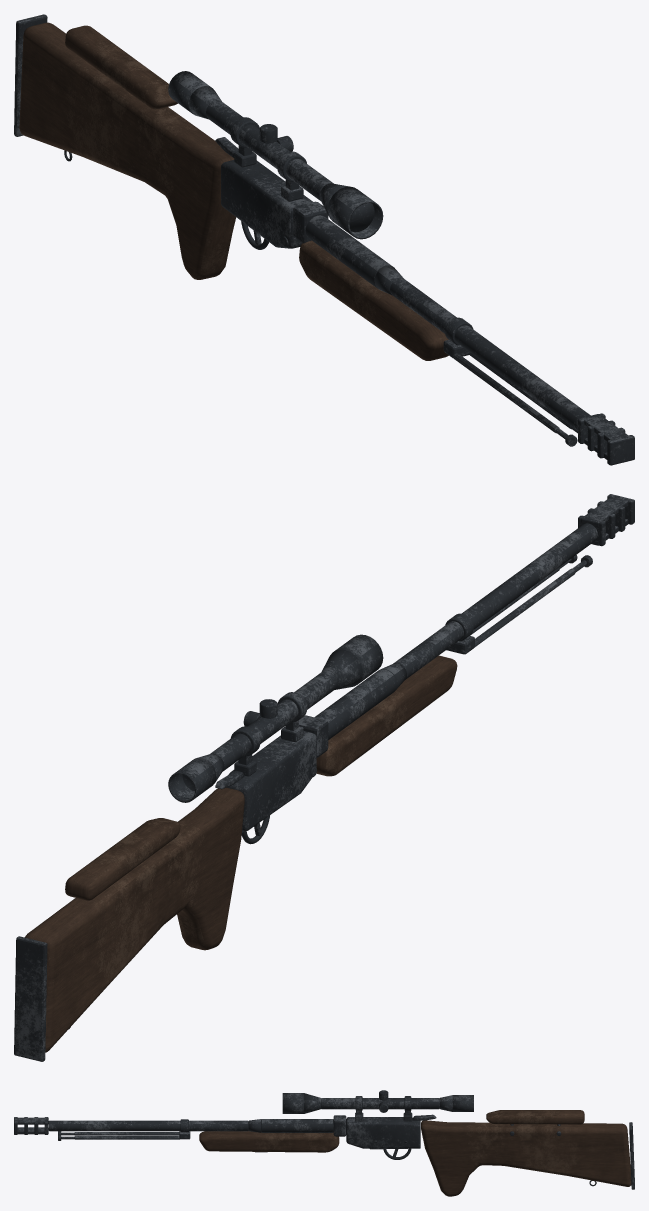
File: wpn_heron.gltf
The picture shows the model from 3 angles, top to bottom: view 1: azimuth 30°, elevation 25°; view 2: azimuth 150°, elevation 25°; view 3: azimuth 270°, elevation 25°; orthographic projection. The views are drawn at different scales.
Visible parts, largest first — view 1: wpn_heron_gun_wood_01, wpn_heron_gun_steel_01; view 2: wpn_heron_gun_wood_01, wpn_heron_gun_steel_01; view 3: wpn_heron_gun_wood_01, wpn_heron_gun_steel_01.
Part boxes in pixels (<box>): wpn_heron_gun_wood_01: <box>19,22,448,360</box>; wpn_heron_gun_steel_01: <box>14,14,634,465</box>; wpn_heron_gun_wood_01: <box>24,655,457,1052</box>; wpn_heron_gun_steel_01: <box>14,494,634,1061</box>; wpn_heron_gun_wood_01: <box>199,1110,631,1196</box>; wpn_heron_gun_steel_01: <box>14,1090,634,1189</box>.
Bounding box in the file's own units: 0.055 × 0.2666 × 1.46.
Materials: 2 (2 with a texture image).
